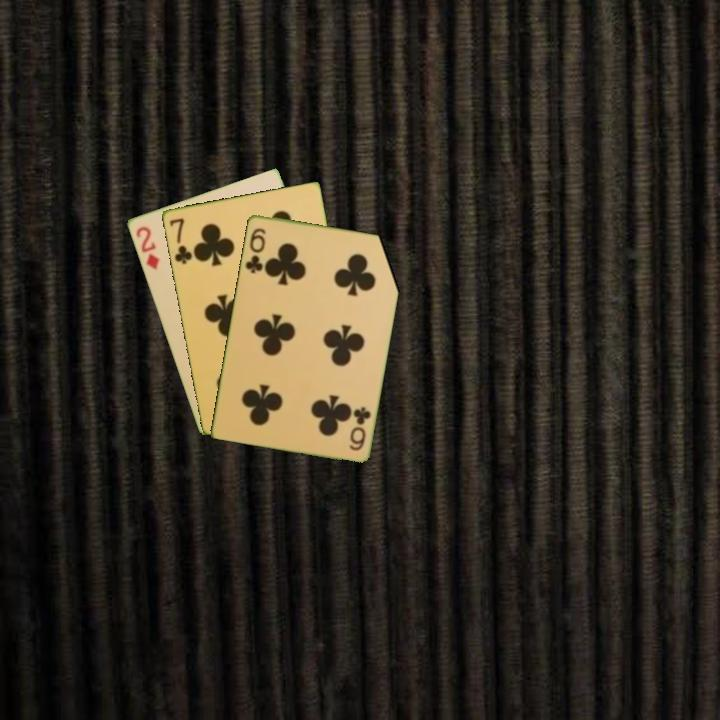2d: (132, 222, 162, 273)
6c: (345, 403, 374, 453), (241, 224, 268, 276)
7c: (166, 214, 195, 267)
